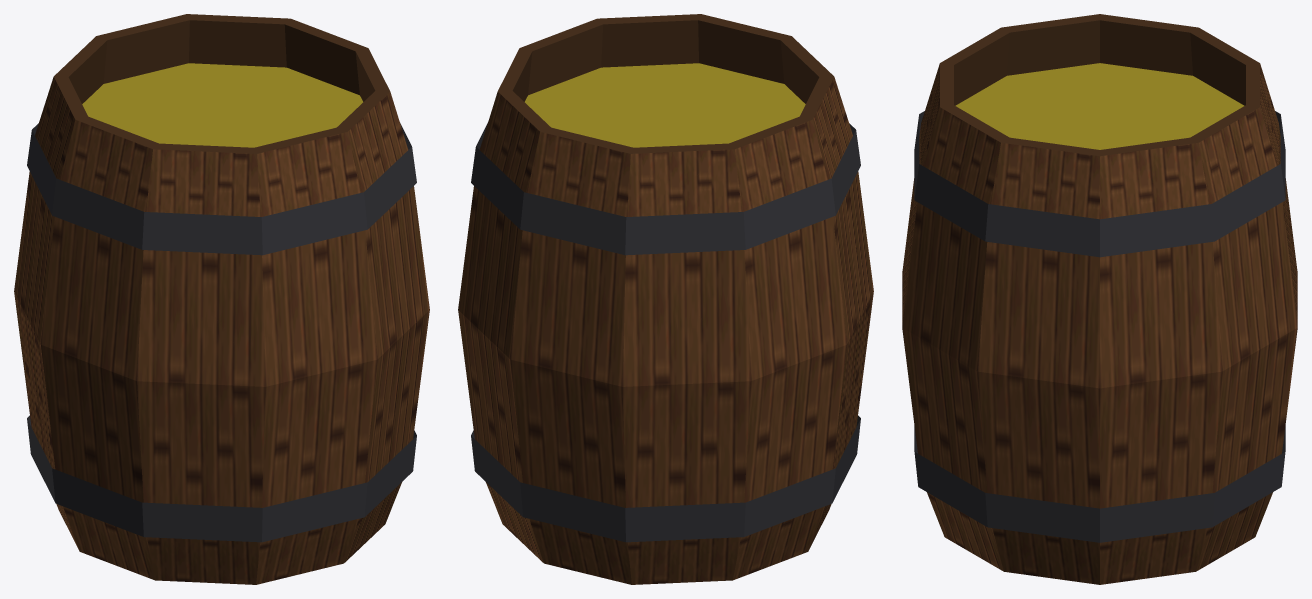
The model's file is mclabe_oil_barrel.obj.
The picture shows the model from 3 angles, left to right: view 1: azimuth 30°, elevation 25°; view 2: azimuth 150°, elevation 25°; view 3: azimuth 270°, elevation 25°; orthographic projection.
Parts seen in each view (by area): view 1: mclabe_oil_barrel; view 2: mclabe_oil_barrel; view 3: mclabe_oil_barrel.
Part boxes in pixels (<box>): mclabe_oil_barrel: <box>14,14,429,584</box>; mclabe_oil_barrel: <box>458,14,873,584</box>; mclabe_oil_barrel: <box>902,14,1297,584</box>.
Bounding box in the file's own units: 0.6562 × 0.75 × 0.6241.
